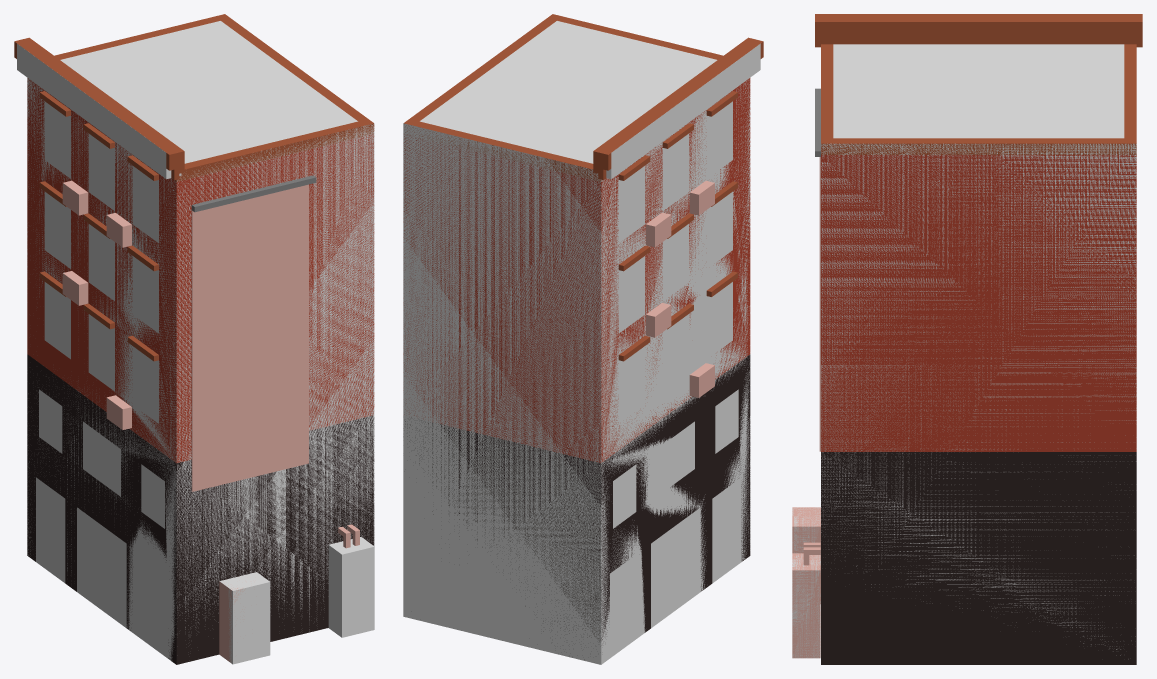
Rendered from Building_B2_Home04_1_01.FBX.
3 renders of one model, left to right at view 1: azimuth 30°, elevation 25°; view 2: azimuth 150°, elevation 25°; view 3: azimuth 270°, elevation 25°, orthographic. The views are drawn at different scales.
Visible parts, largest first — view 1: Building_B2_Home04_Live_1_01, Building_B2_Home04_Damage_1_01; view 2: Building_B2_Home04_Damage_1_01, Building_B2_Home04_Live_1_01; view 3: Building_B2_Home04_Live_1_01, Building_B2_Home04_Damage_1_01.
Part boxes in pixels (<box>): Building_B2_Home04_Live_1_01: <box>14,14,374,664</box>; Building_B2_Home04_Damage_1_01: <box>17,21,374,664</box>; Building_B2_Home04_Damage_1_01: <box>403,21,760,664</box>; Building_B2_Home04_Live_1_01: <box>403,14,763,659</box>; Building_B2_Home04_Live_1_01: <box>792,14,1142,664</box>; Building_B2_Home04_Damage_1_01: <box>792,44,1136,659</box>.
Bounding box in the file's own units: 5.33 × 12.61 × 7.37.
